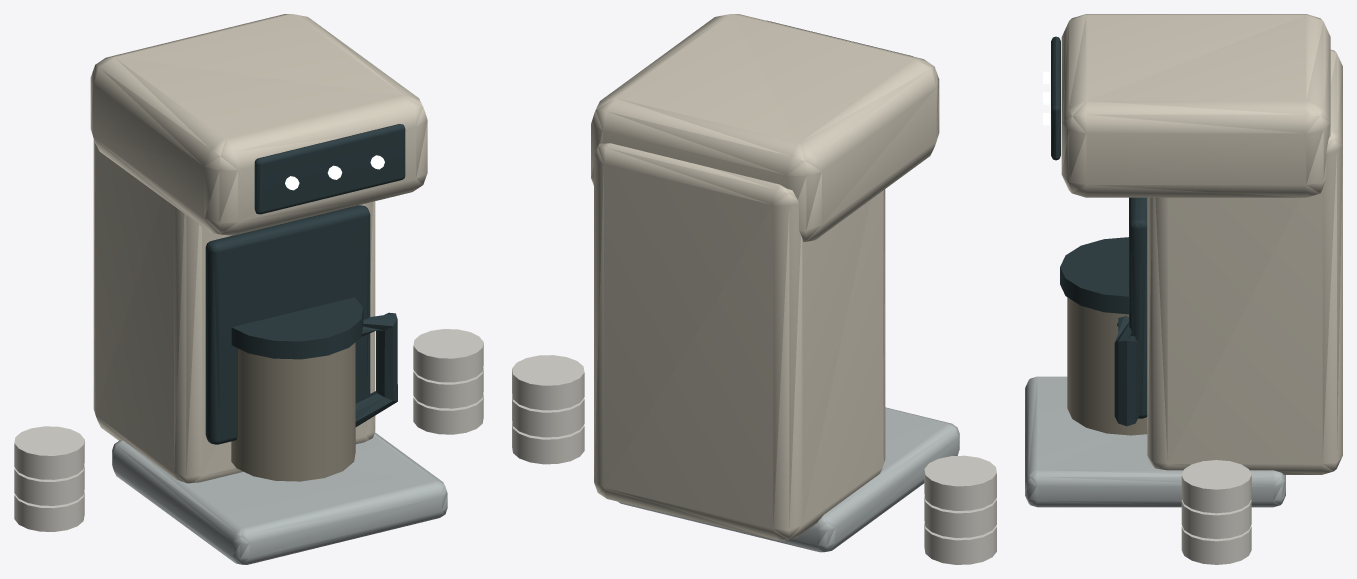
File: 11_advanced_coffee_machine.glb
3 views of the same model, side by side, from view 1: azimuth 30°, elevation 25°; view 2: azimuth 150°, elevation 25°; view 3: azimuth 270°, elevation 25° (orthographic). The views are drawn at different scales.
Visible parts, largest first — view 1: 11_advanced_coffee_machine__Static; view 2: 11_advanced_coffee_machine__Static; view 3: 11_advanced_coffee_machine__Static.
Boxes of the visible parts, box(x1,y1,x2,y2) form: 11_advanced_coffee_machine__Static: box(14, 14, 483, 564); 11_advanced_coffee_machine__Static: box(512, 14, 996, 564); 11_advanced_coffee_machine__Static: box(1025, 14, 1342, 564).
Bounding box in the file's own units: 0.646 × 0.545 × 0.39.
